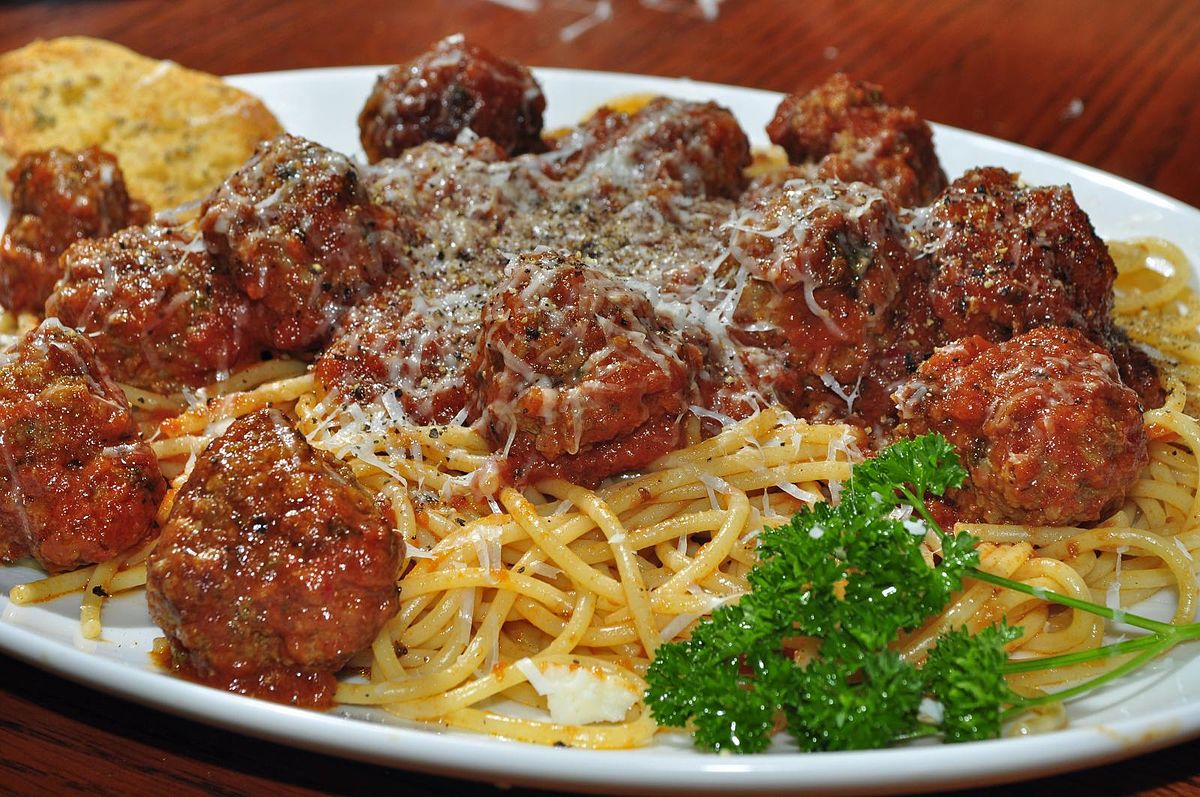meatballs: (16, 40, 1150, 529), (138, 423, 410, 692)
plain spaghetti: (425, 474, 659, 694)
